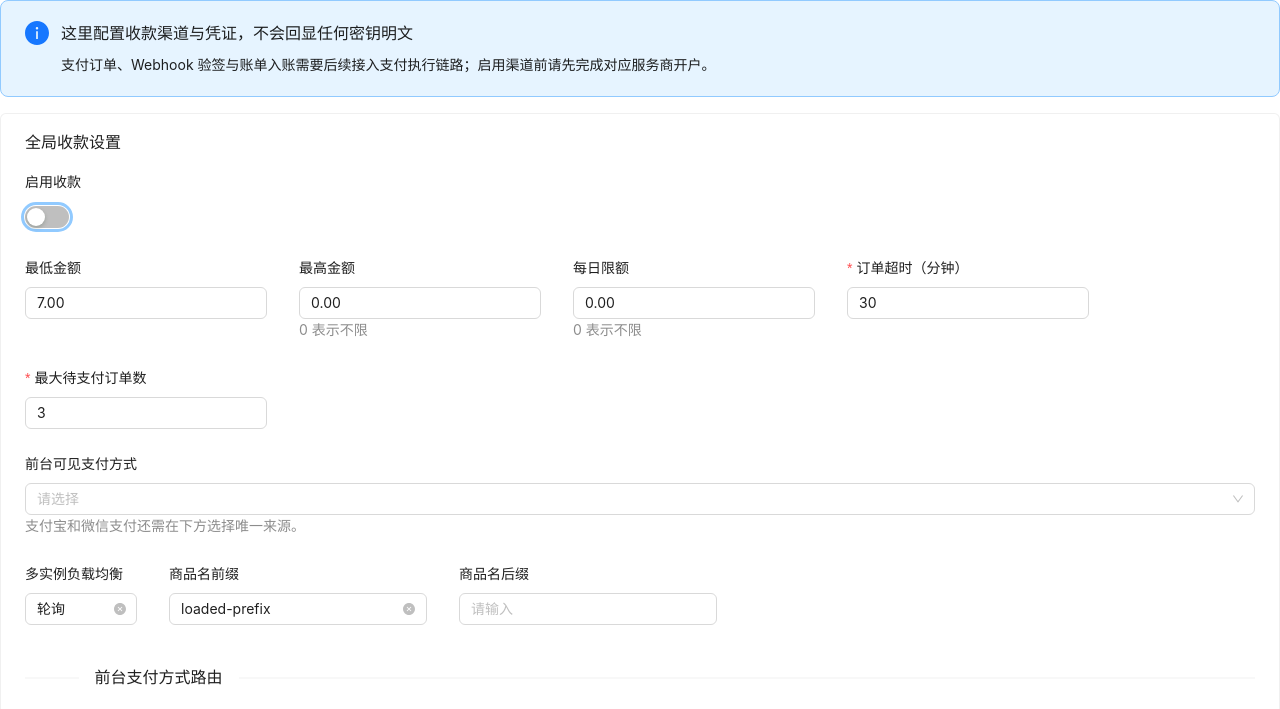
PaymentSettings › restores the last loaded config on reset without refetching
This screenshot has width=1280, height=709.
Replace the text in the field labelled "商品名前缀" with "changed-prefix" at (290,609), box [181,598,399,620]
(page scrolled)
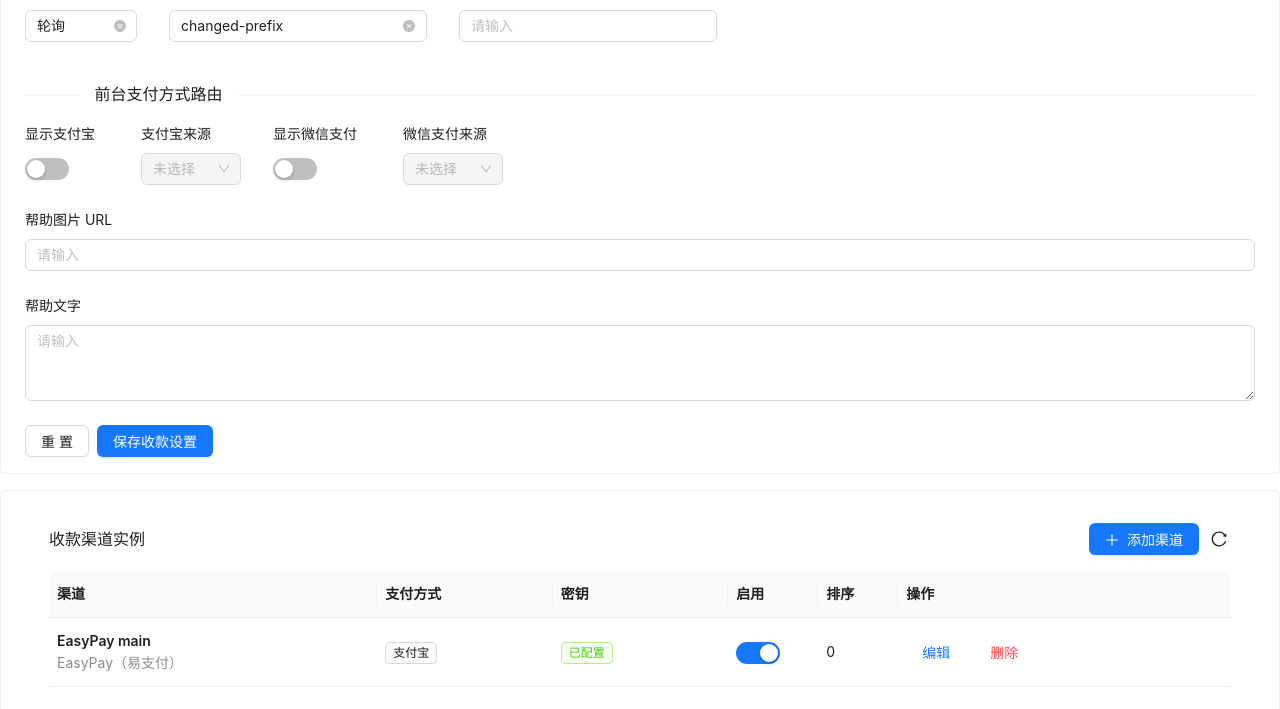
Click the button named "重置" at (57,441), box [25,425,89,457]
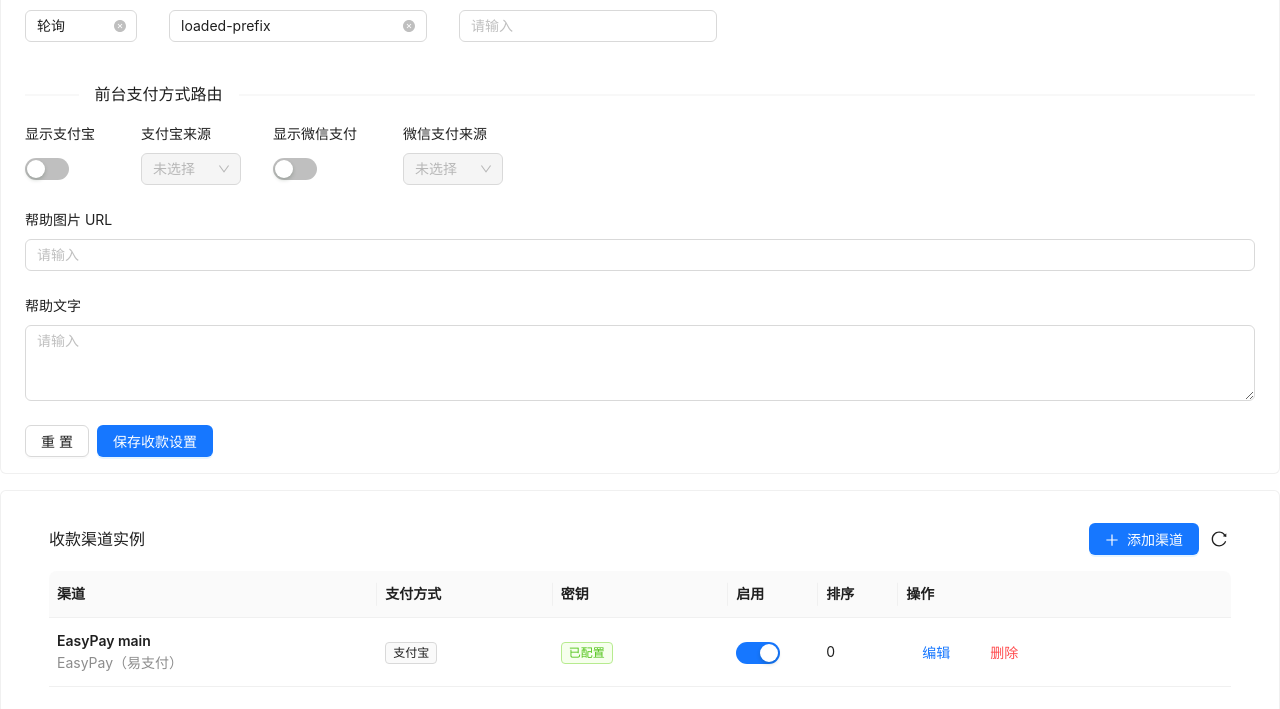
Result: the field labelled "商品名前缀" holds "loaded-prefix" at [181,15,399,37]
